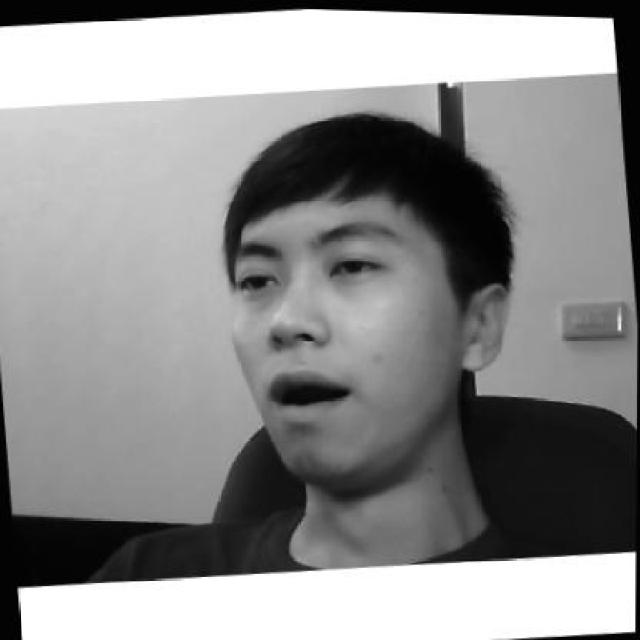inattentif: (213, 93, 525, 490)
